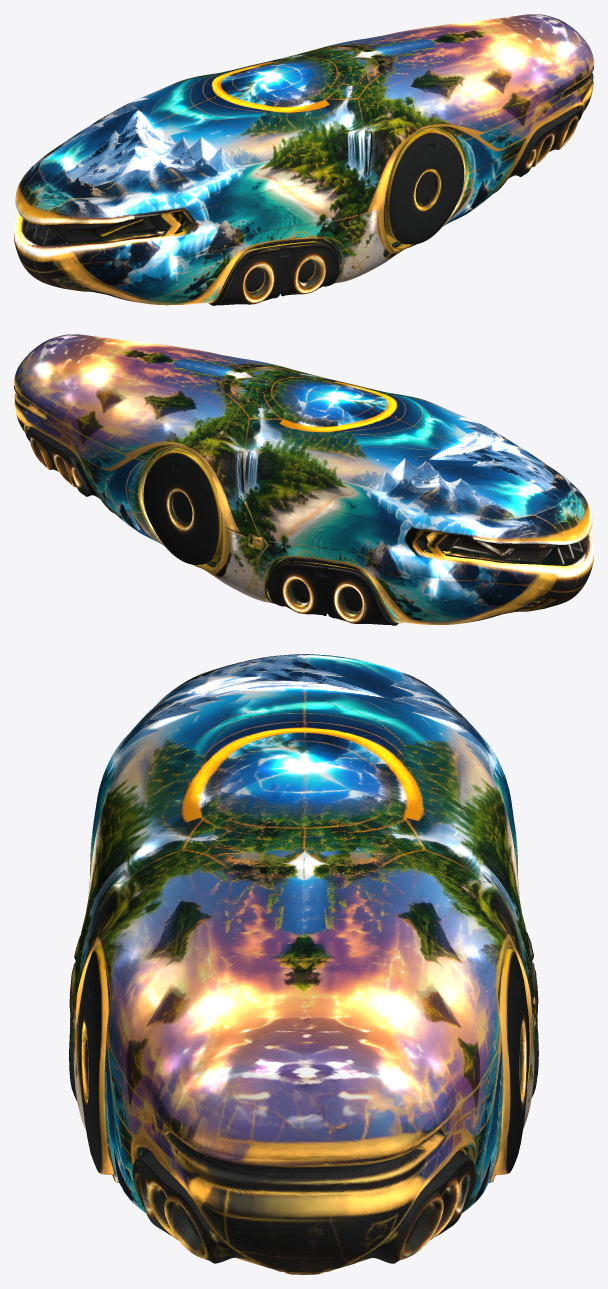
Rendered from starpod_worlds_v2.glb.
The picture shows the model from 3 angles, top to bottom: view 1: azimuth 30°, elevation 25°; view 2: azimuth 150°, elevation 25°; view 3: azimuth 270°, elevation 25°; orthographic projection. The views are drawn at different scales.
Bounding box in the file's own units: 1.9 × 0.581 × 0.6954.
Materials: 1 (1 with a texture image).
